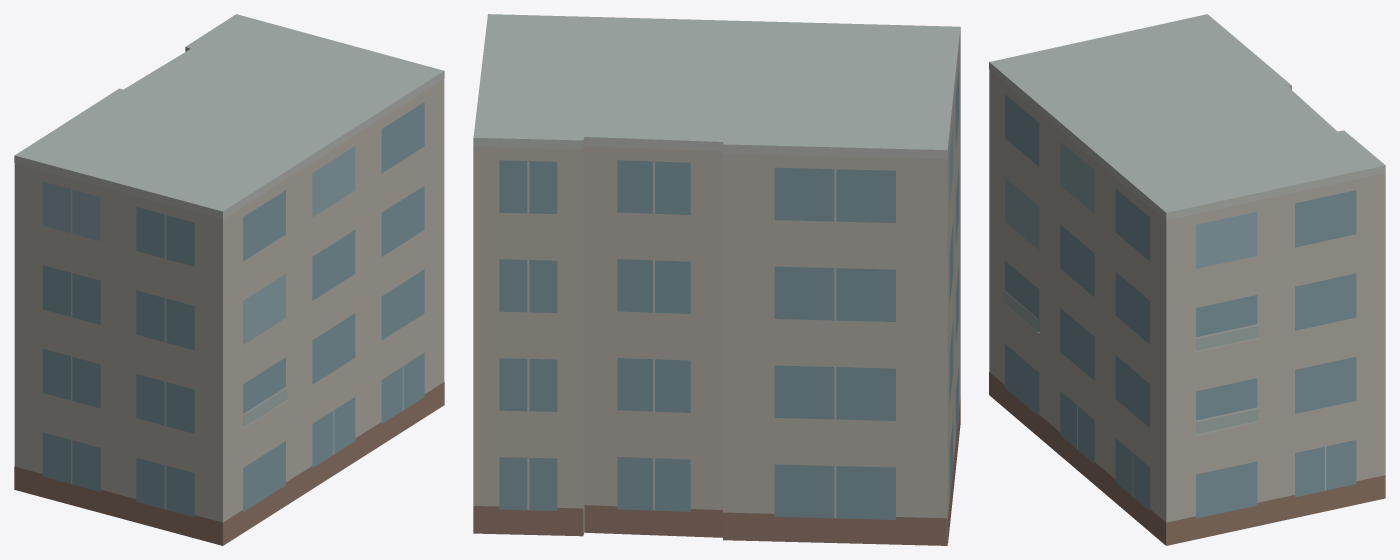
The model's file is survey-upis-33014686.glb.
3 renders of one model, left to right at view 1: azimuth 30°, elevation 25°; view 2: azimuth 150°, elevation 25°; view 3: azimuth 270°, elevation 25°, orthographic. The views are drawn at different scales.
Visible parts, largest first — view 1: survey-upis-33014686.tmp; view 2: survey-upis-33014686.tmp; view 3: survey-upis-33014686.tmp.
Boxes of the visible parts, x1,y1,x2,y2 form: survey-upis-33014686.tmp: [14, 14, 444, 545]; survey-upis-33014686.tmp: [473, 14, 960, 545]; survey-upis-33014686.tmp: [989, 14, 1385, 545].
Bounding box in the file's own units: 13.58 × 10.6 × 11.45.
